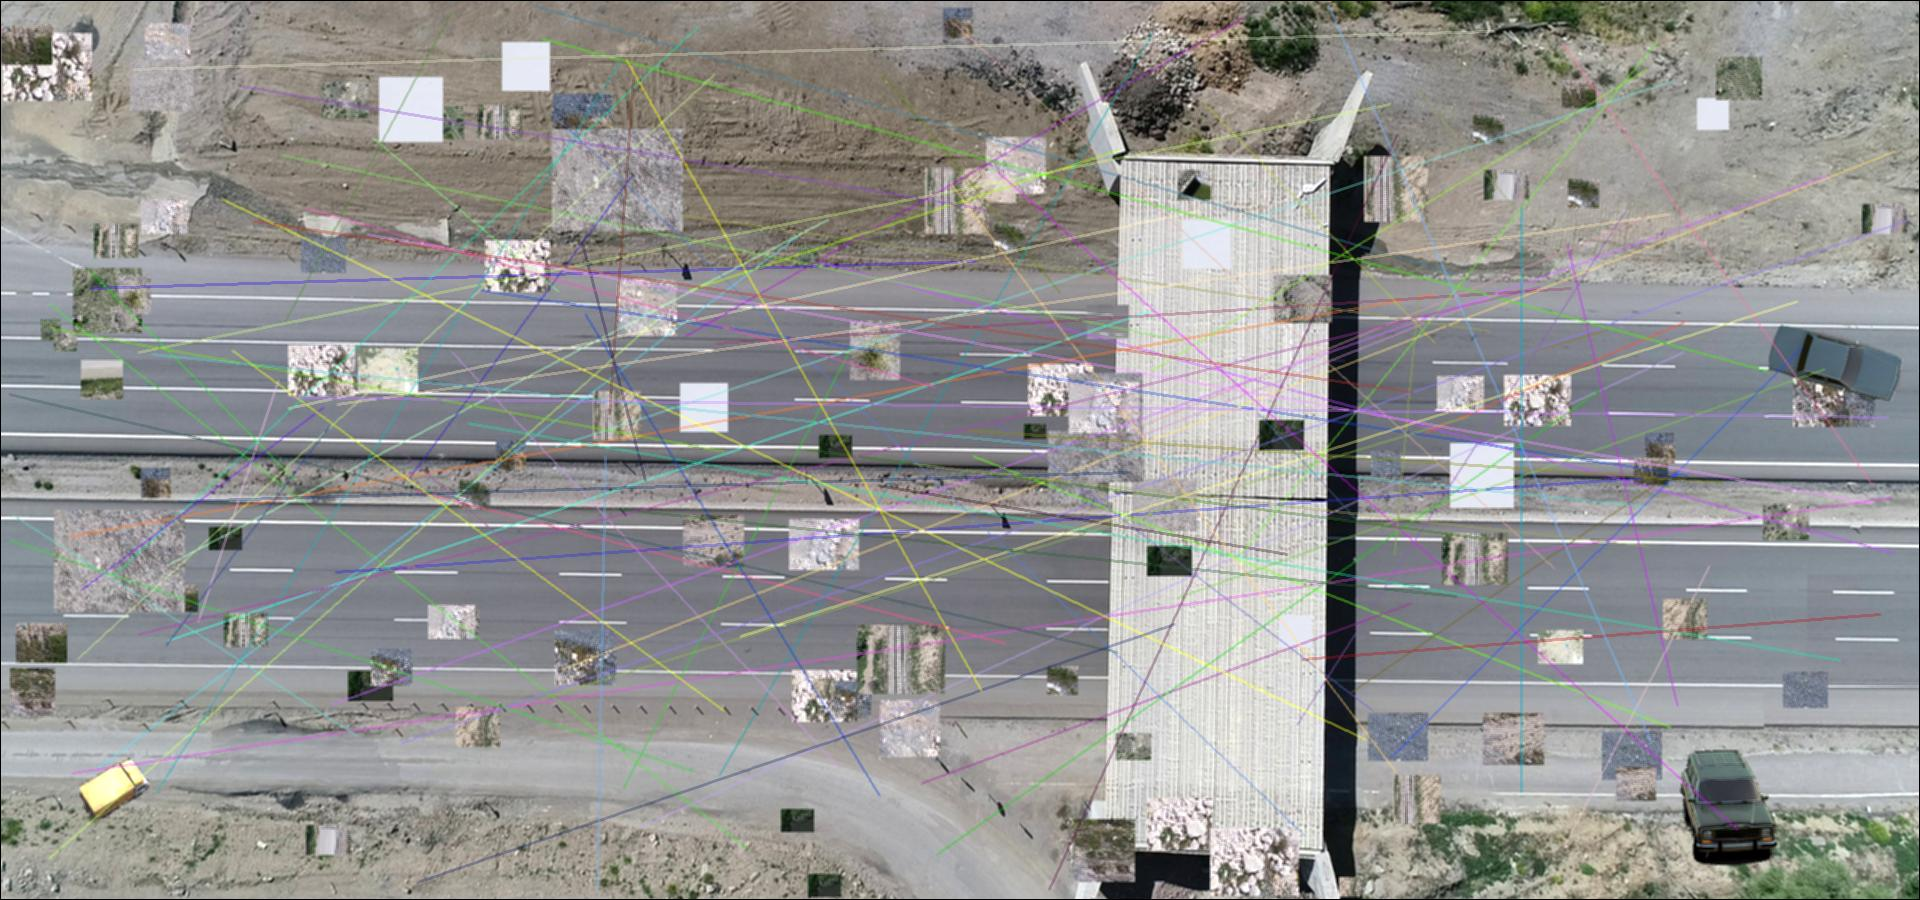arac: (1675, 747, 1778, 866), (1769, 324, 1904, 400), (80, 754, 151, 819)
